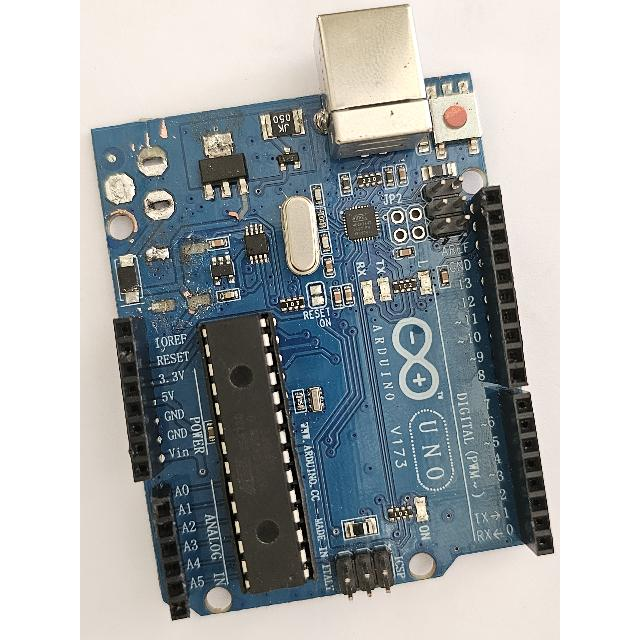missing_capacitors: (138, 231, 219, 325)
missing_eps: (108, 117, 193, 238)
